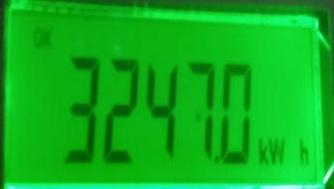.: (256, 136, 312, 169)
0: (213, 154, 222, 166)
1: (219, 63, 252, 162)
3: (103, 59, 142, 162)
4: (65, 54, 101, 164)
5: (144, 60, 180, 158)
8: (185, 60, 217, 160)
